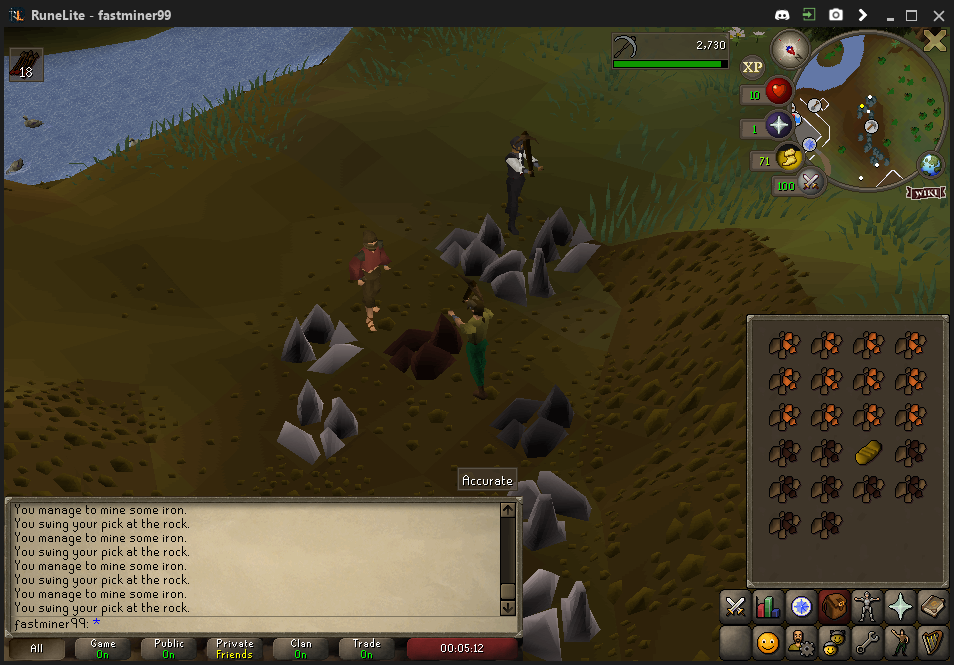depleted: (495, 384, 579, 455)
ore: (389, 310, 459, 380)
